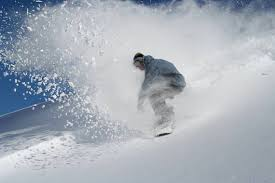snowboard: (151, 121, 176, 138)
